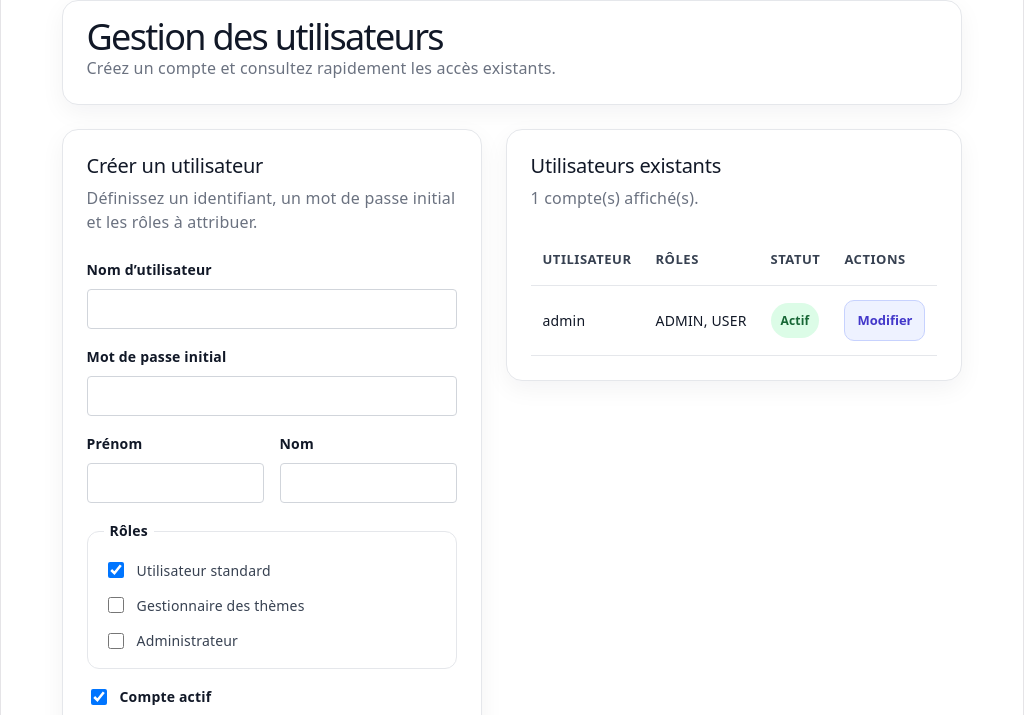
Test: UserAdminPage › submits an update request for the selected user and refreshes the list
Check: the cell "admin" is shown, box [530,286,644,356]
Click the button named "Modifier admin" at coordinates (885, 321), box [844,300,926,341]
(page scrolled)
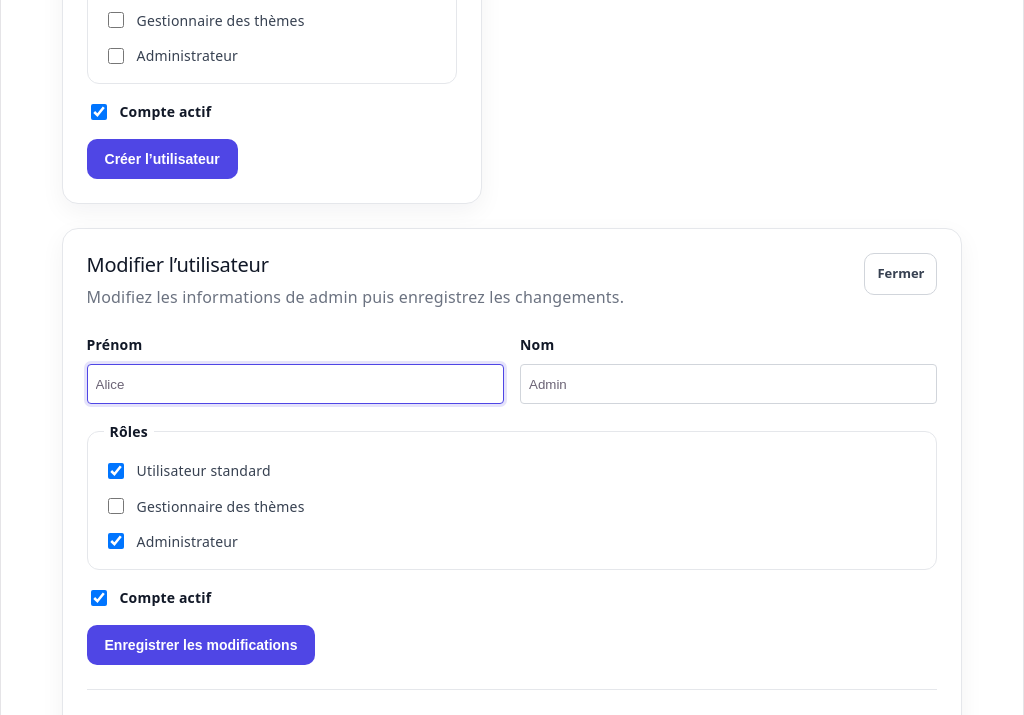
Replace the text in the field labelled "Prénom" with "Alicia" at coordinates (295, 384), box [86,364,504,404]
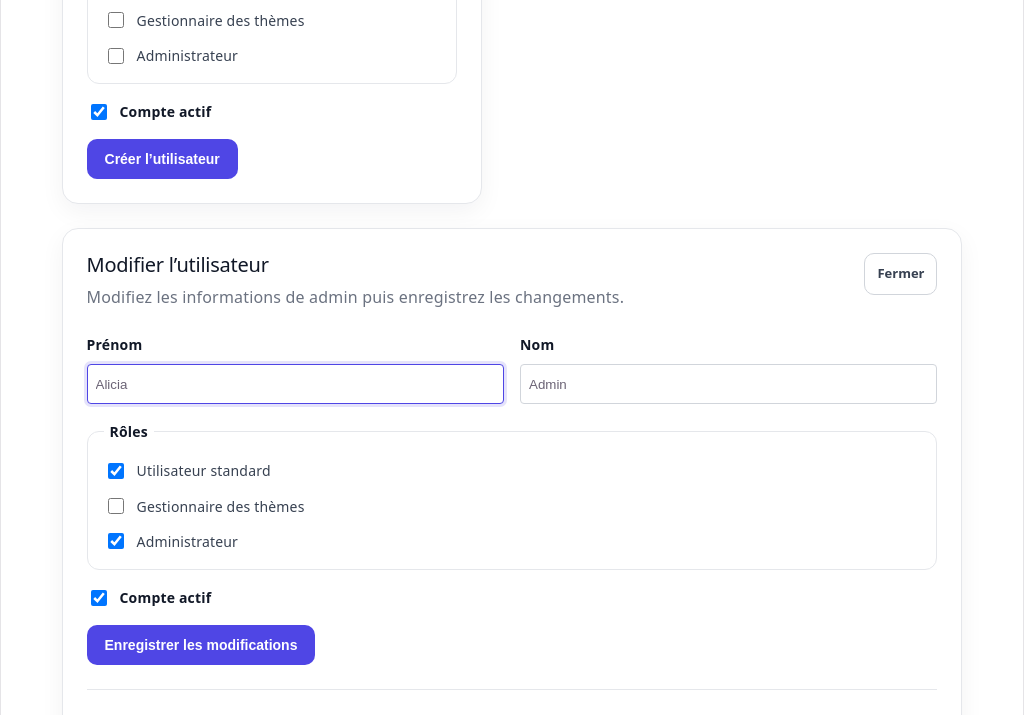
Replace the text in the field labelled "Nom" with "Editor" at coordinates (729, 384), box [520,364,938,404]
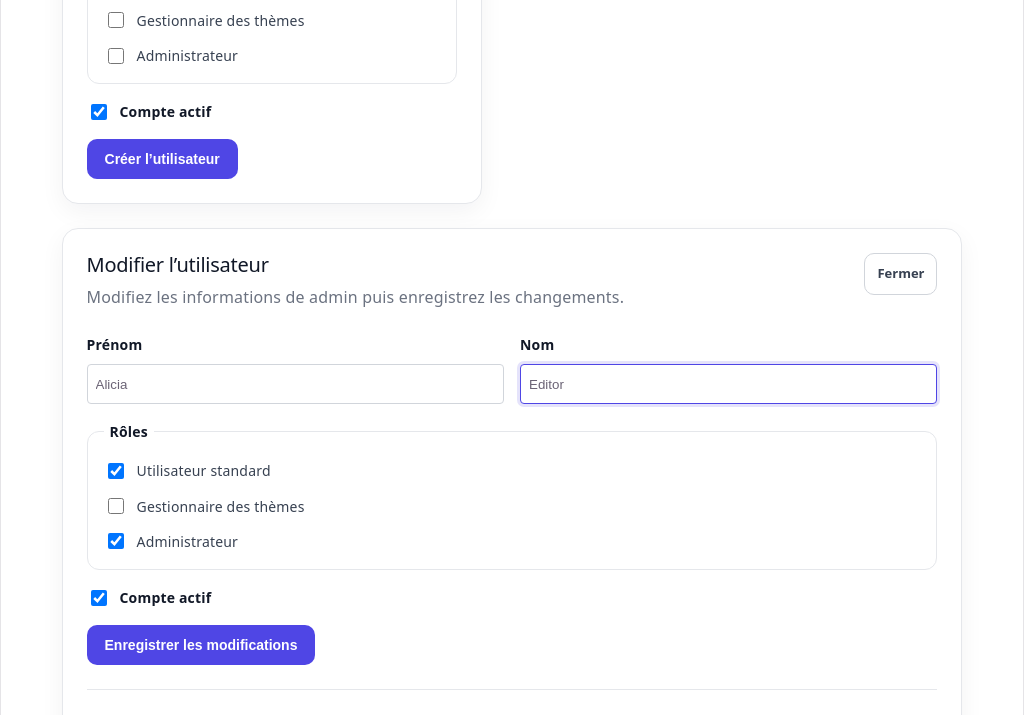
Click the checkbox labelled "Administrateur" below "Modifier l’utilisateur" at coordinates (116, 541), box [108,533,124,549]
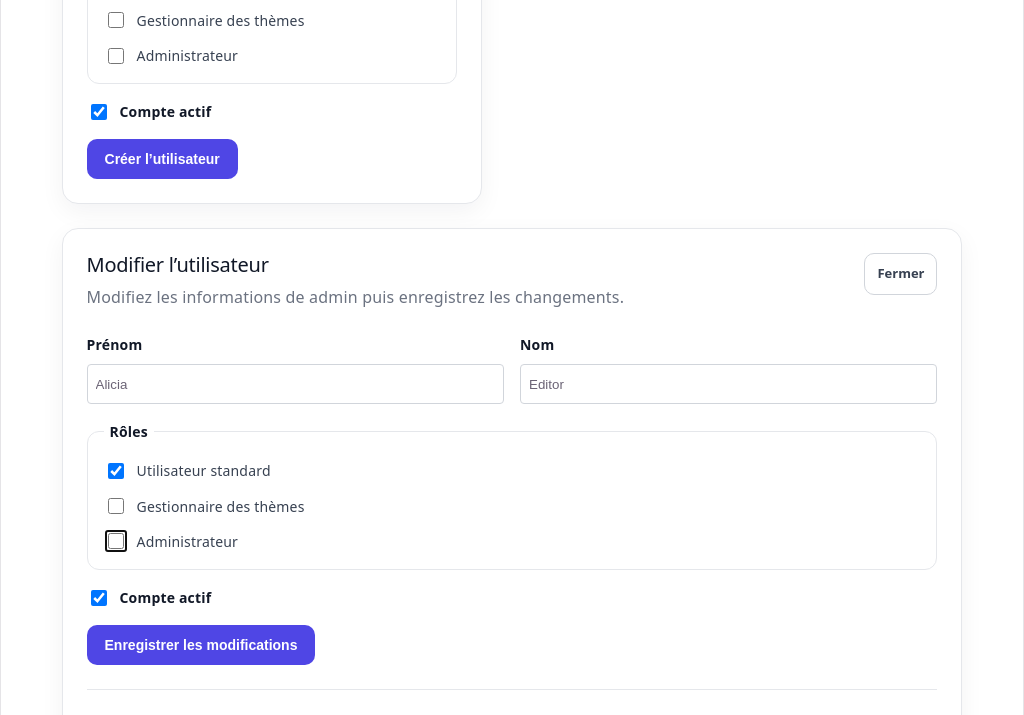
Click the checkbox labelled "Compte actif" below "Modifier l’utilisateur" at coordinates (98, 598), box [90,590,106,606]
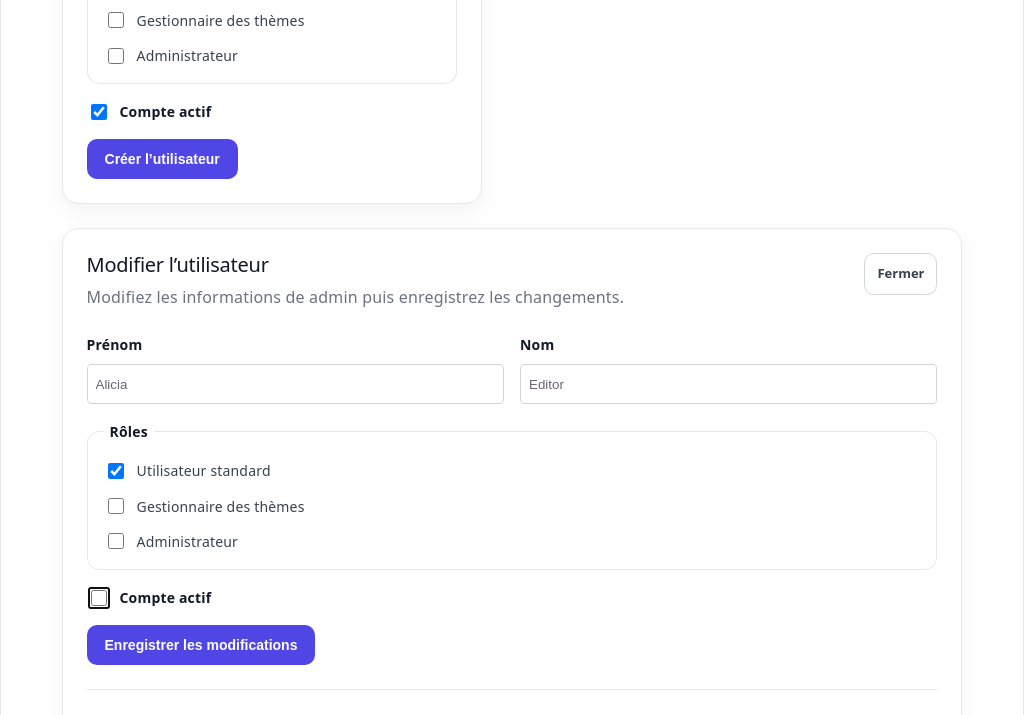
Click the button "Enregistrer les modifications" at coordinates (201, 645), box [86,625,316,665]
(page scrolled)
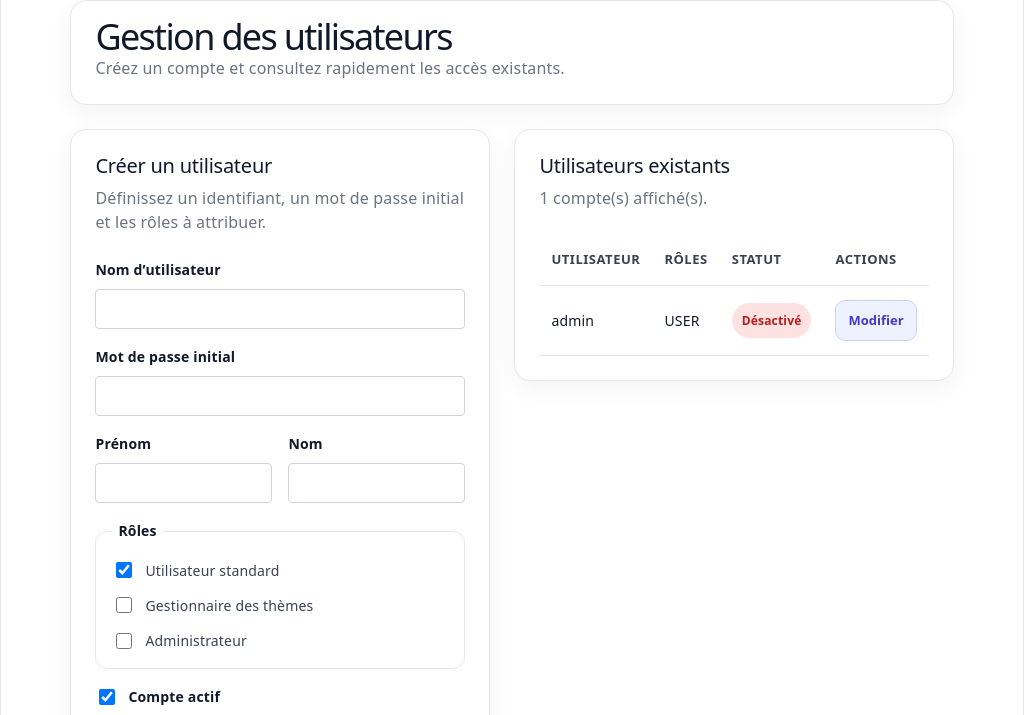
Check: the cell "USER" is shown, box [652,286,720,356]
Check: the cell "Désactivé" is shown, box [720,286,824,356]
